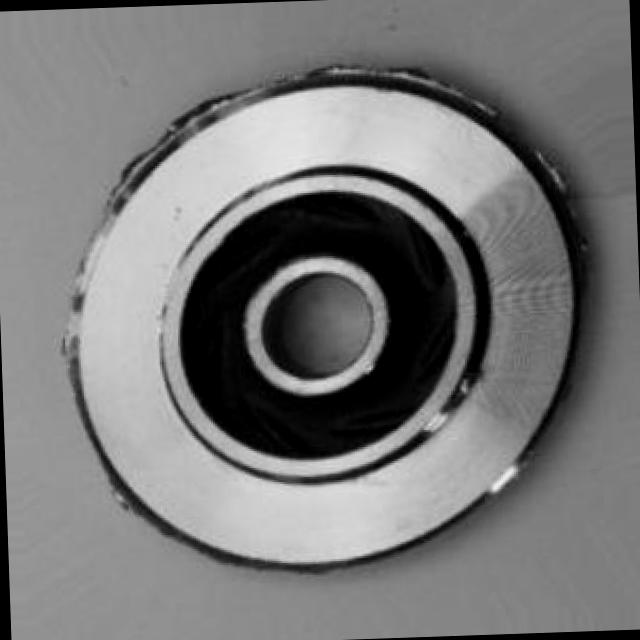Defect: (312, 51, 502, 120)
